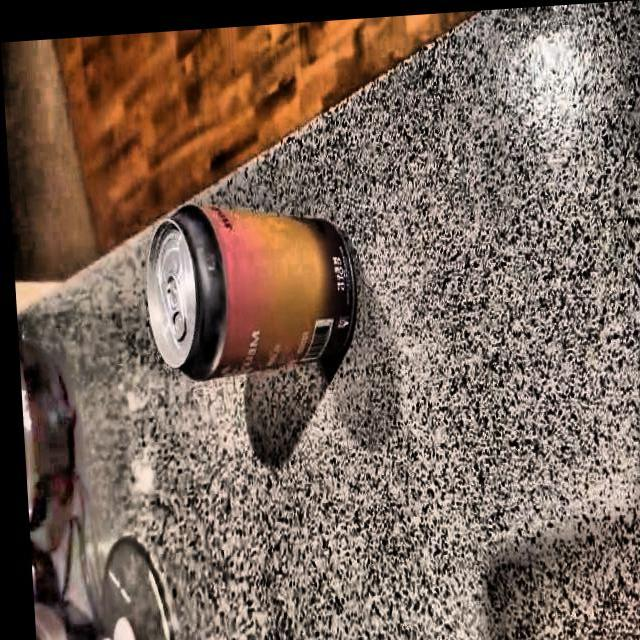Aluminum Can: (134, 183, 356, 386)
